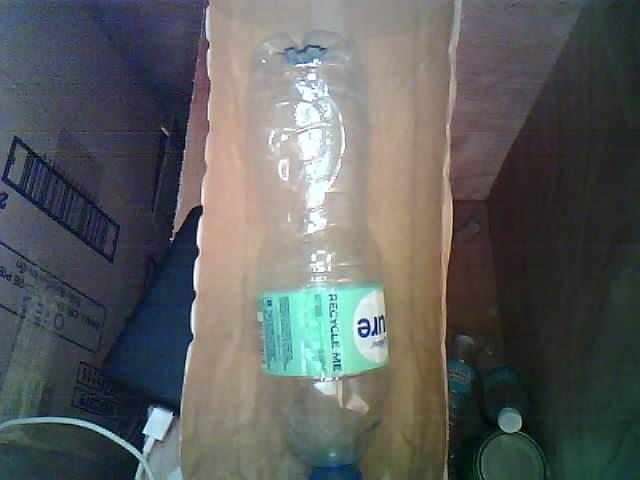large_bottle: (232, 23, 398, 480)
